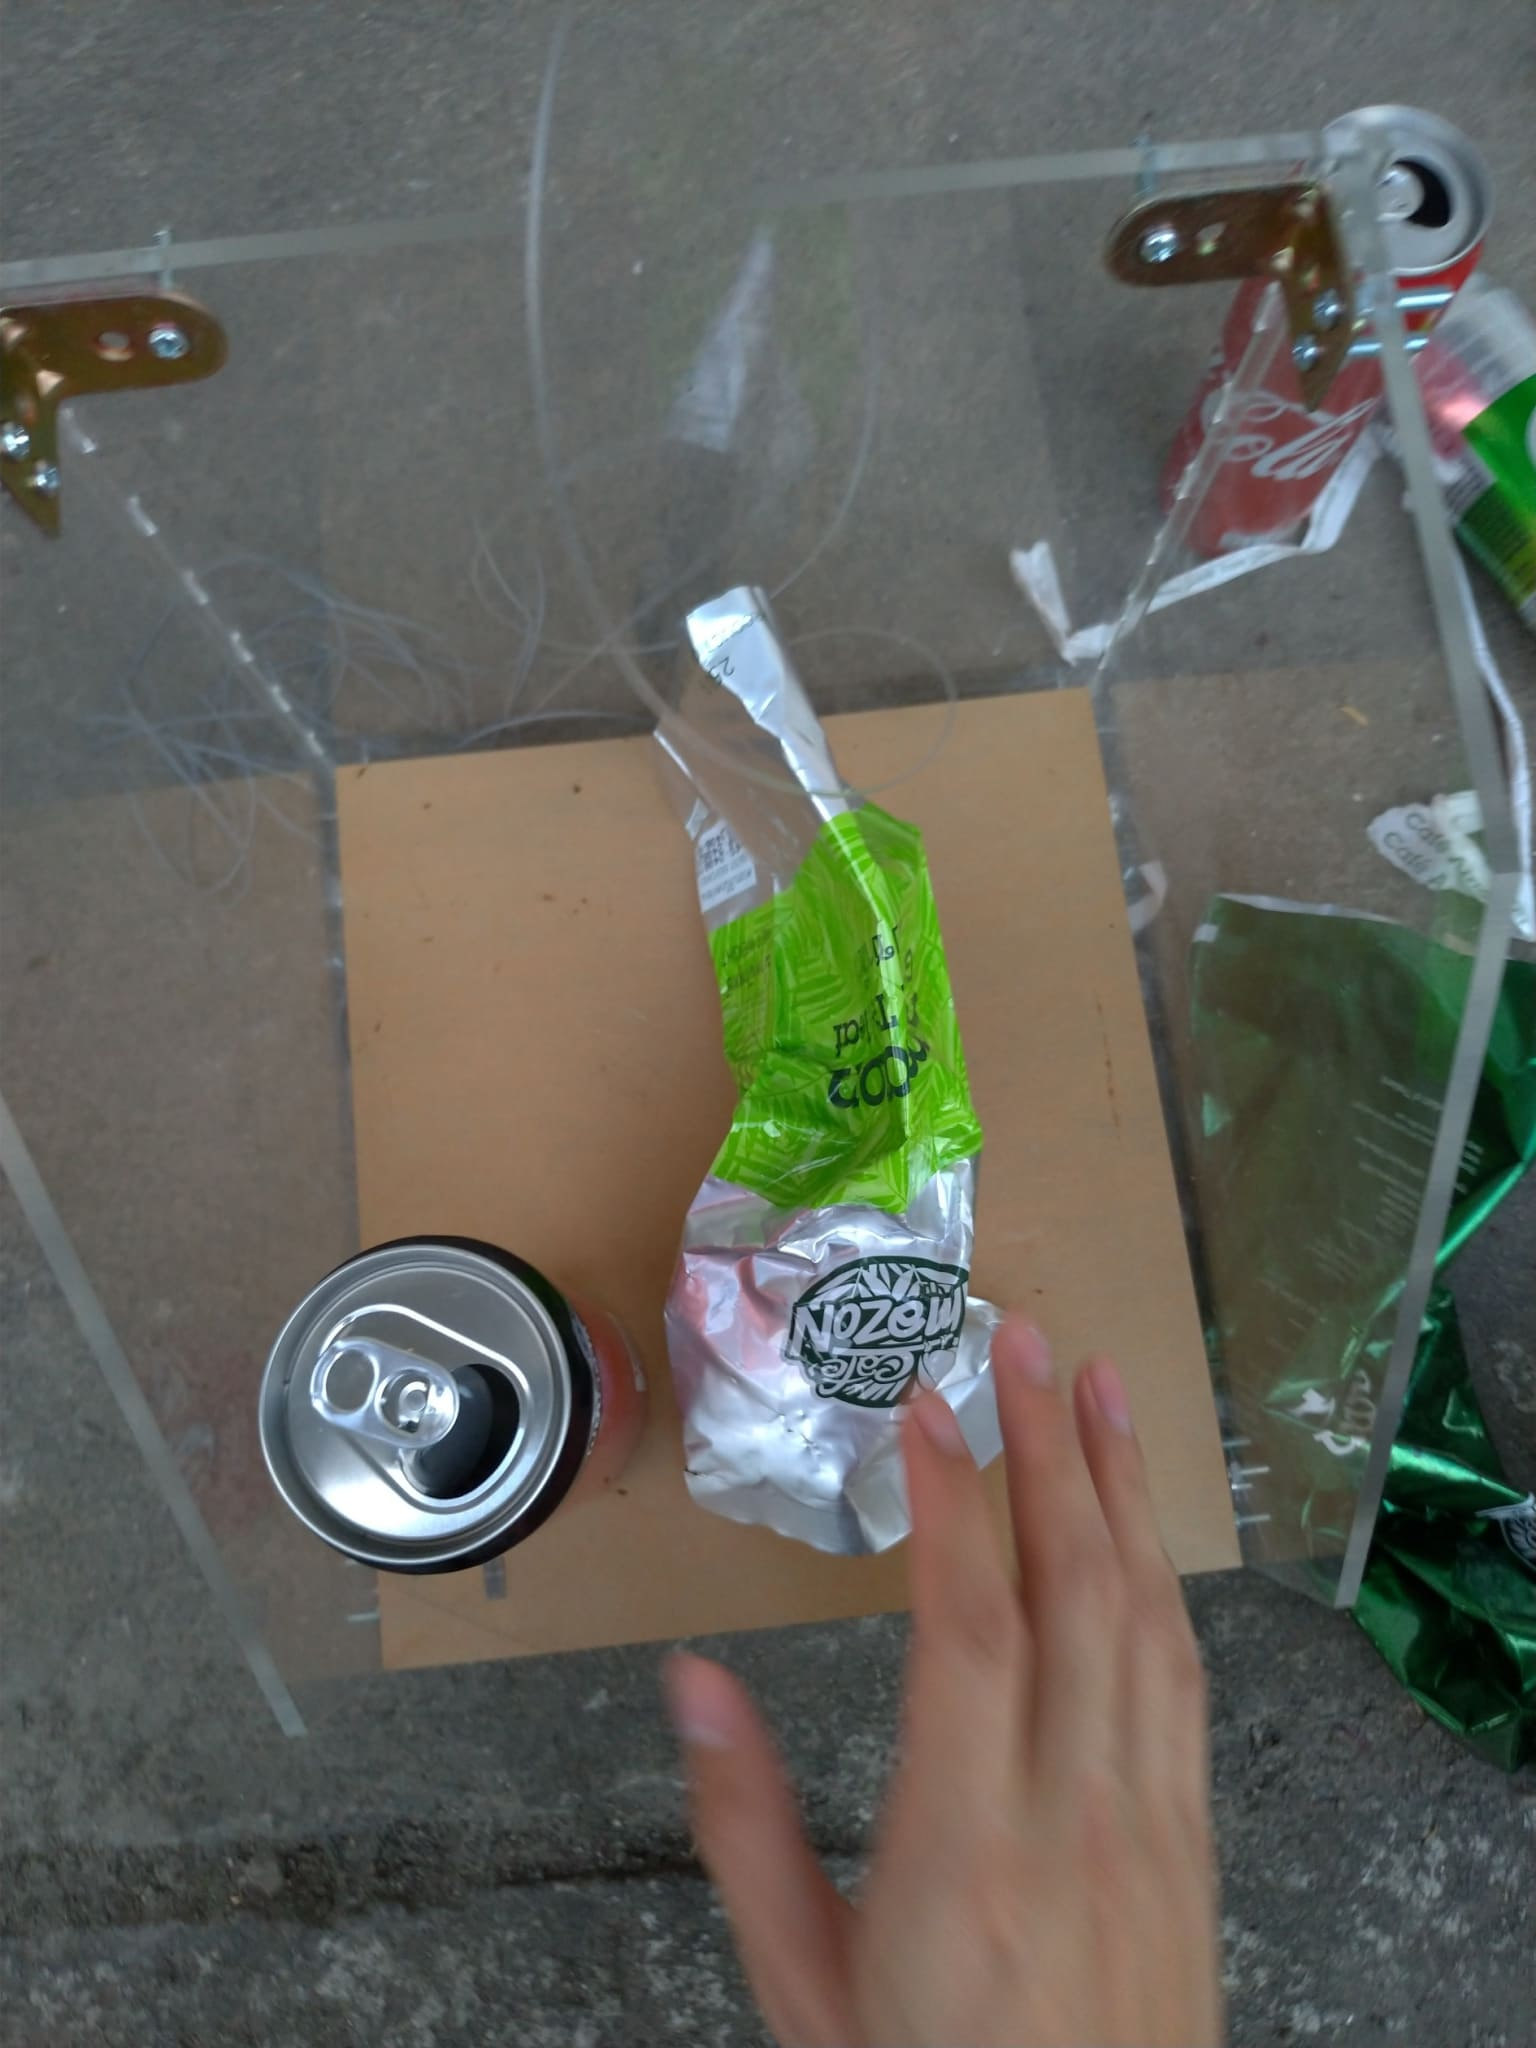AlCan: (1160, 111, 1488, 552), (250, 1235, 644, 1572), (1391, 277, 1536, 626)
Others: (644, 589, 1007, 1561), (1191, 895, 1536, 1779), (1021, 439, 1371, 672), (1379, 472, 1536, 884)
